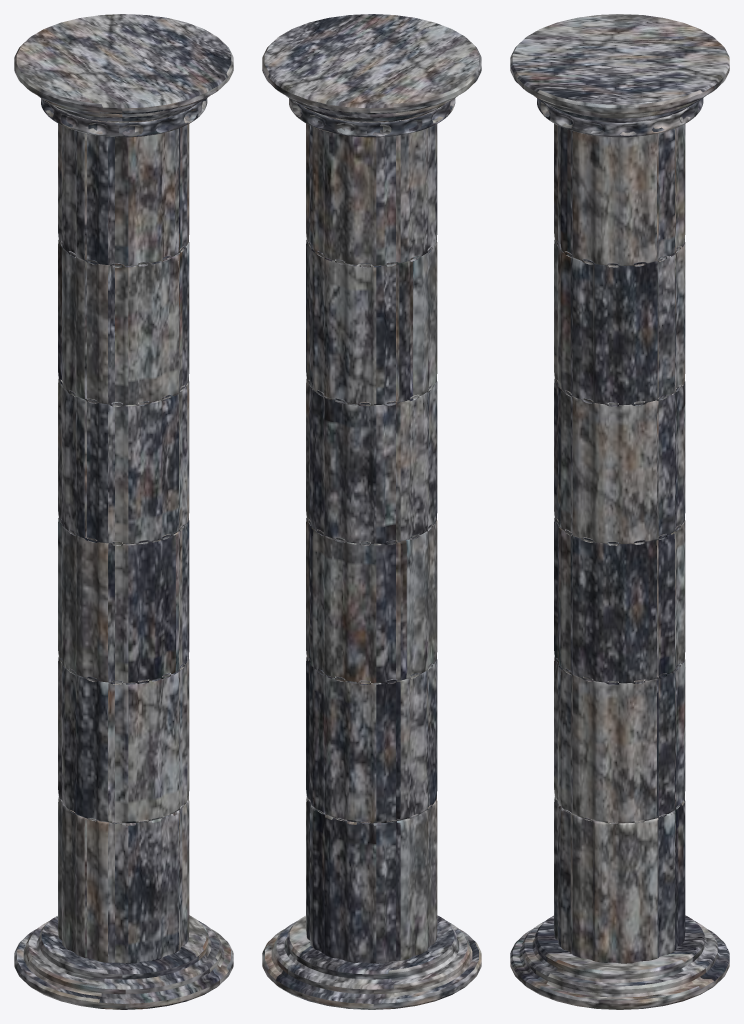
The model's file is pillar 1.fbx.
3 views of the same model, side by side, from view 1: azimuth 30°, elevation 25°; view 2: azimuth 150°, elevation 25°; view 3: azimuth 270°, elevation 25° (orthographic).
Visible parts, largest first — view 1: pCylinder14; view 2: pCylinder14; view 3: pCylinder14.
Boxes of the visible parts, bbox=[...] form: pCylinder14: bbox=[14, 14, 233, 1009]; pCylinder14: bbox=[262, 14, 481, 1009]; pCylinder14: bbox=[510, 14, 729, 1009].
Bounding box in the file's own units: 5.46 × 24.78 × 5.44.
1 material, 1 textured.
